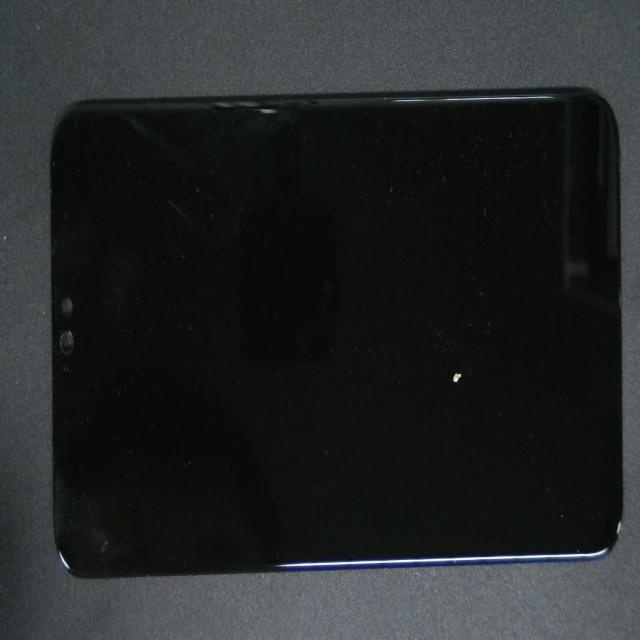stain: (245, 134, 640, 525)
